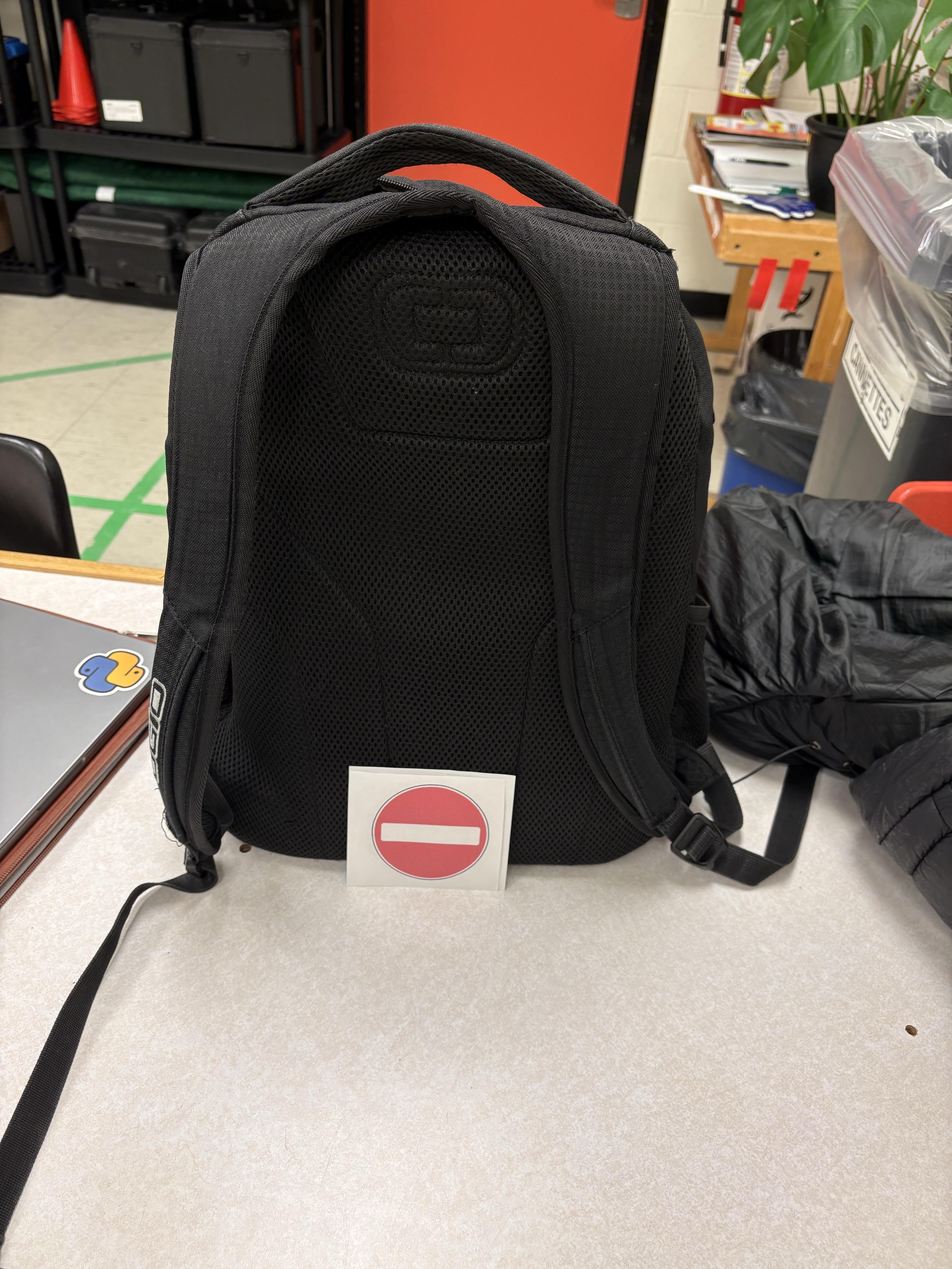No Entry: (263, 1028, 387, 1187)
